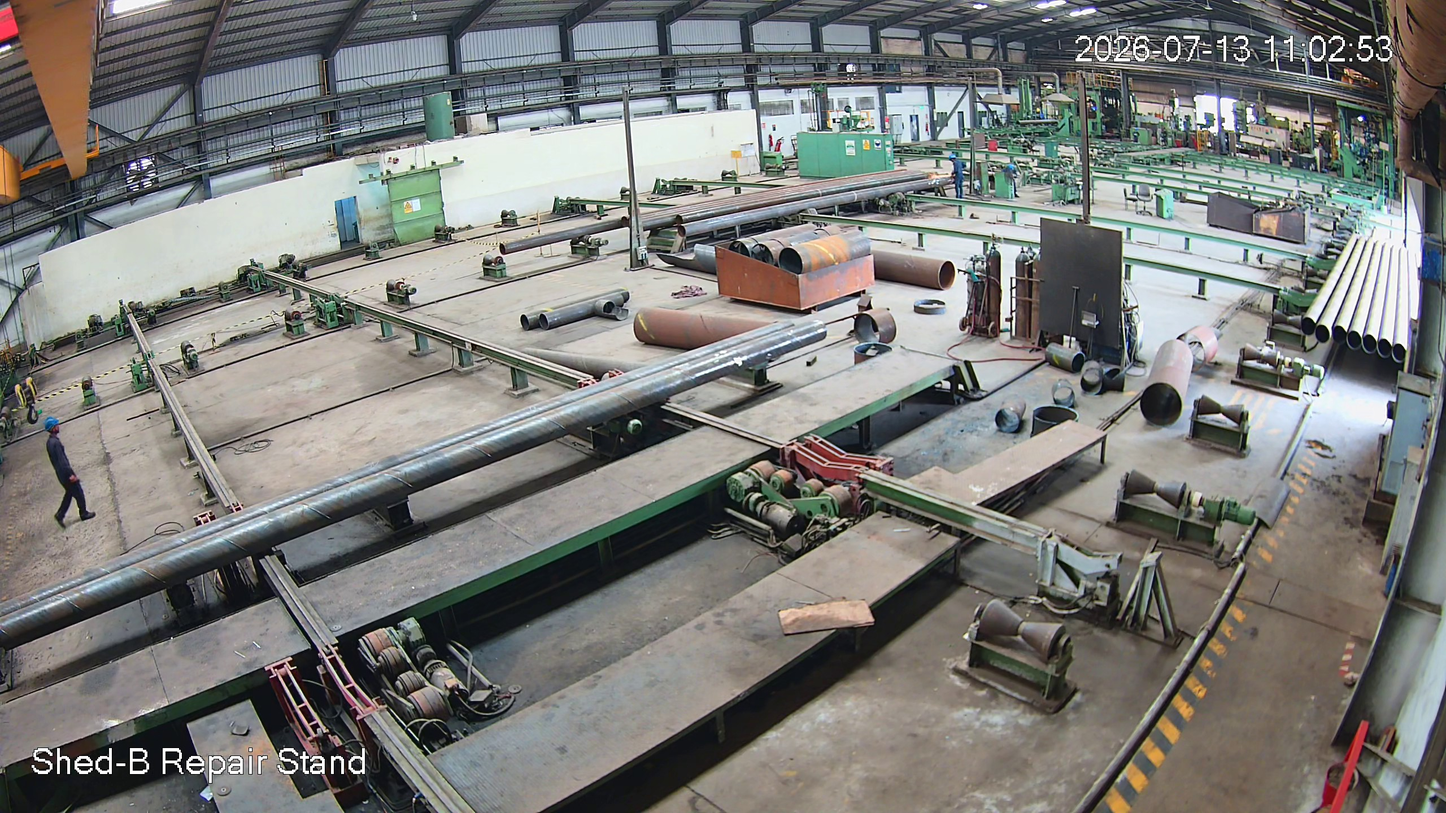Helmet: (41, 414, 61, 437)
Person: (39, 419, 93, 529)
